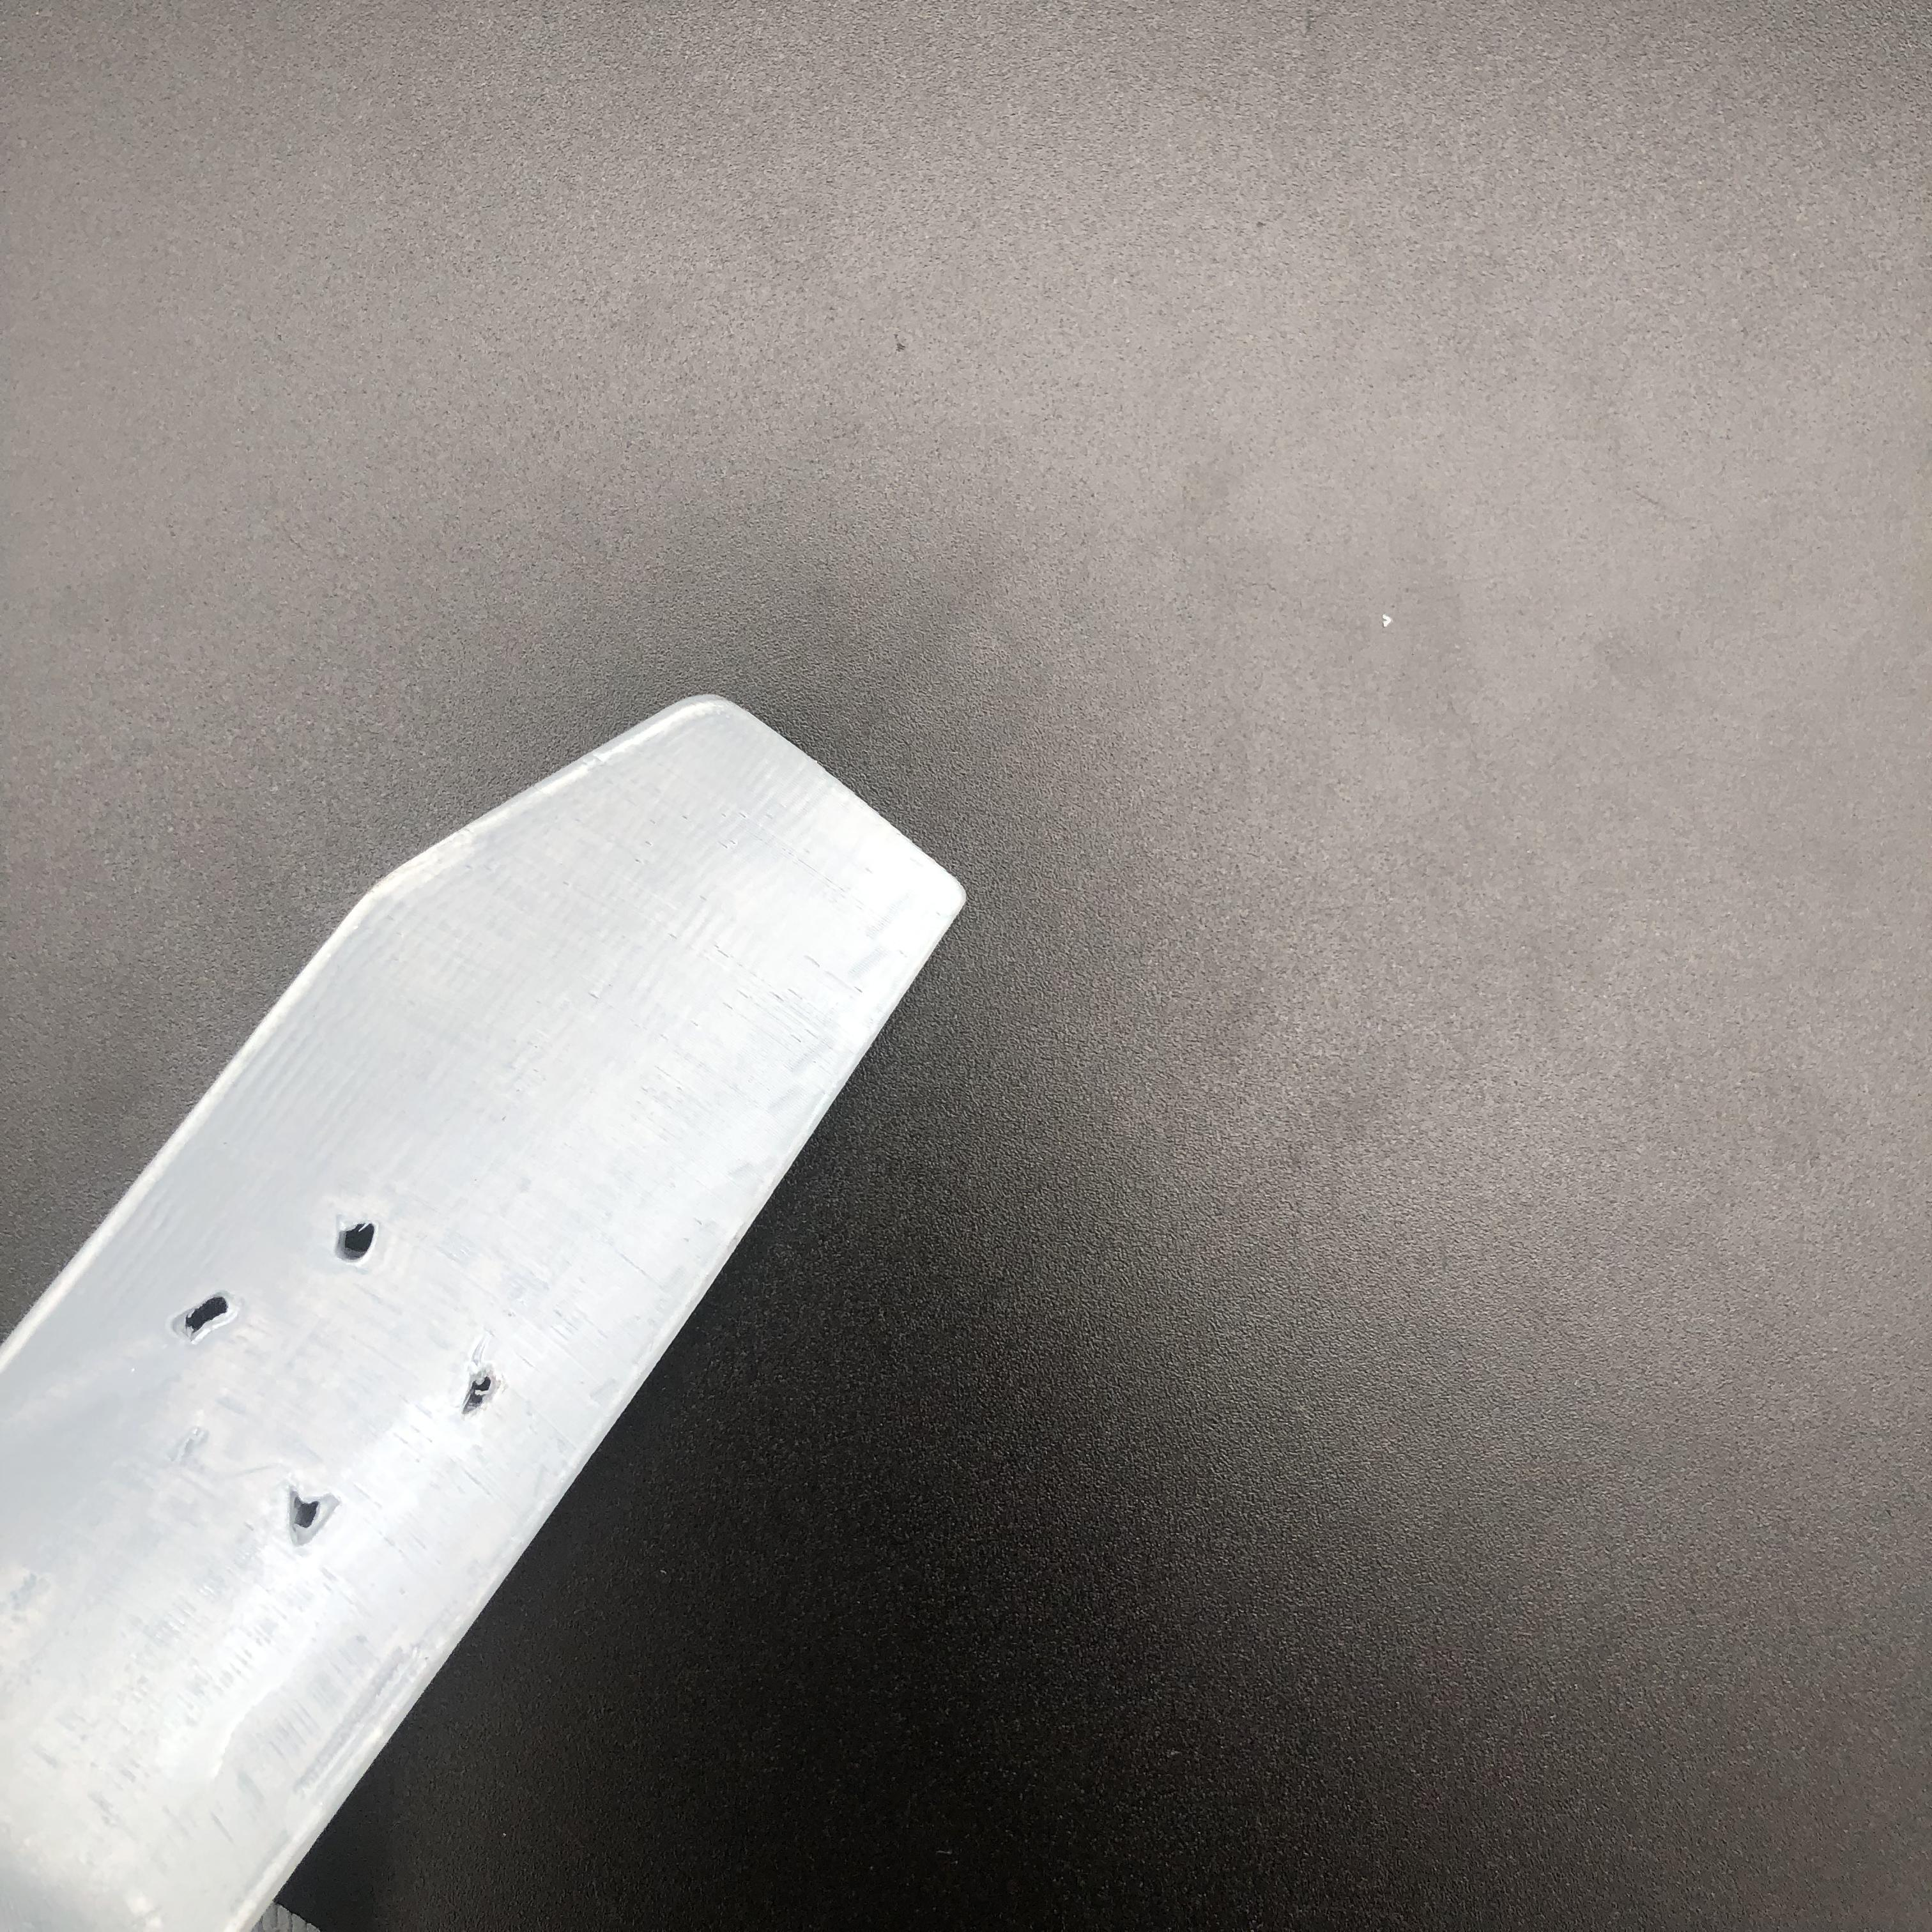breakdown: (193, 1224, 511, 1529)
